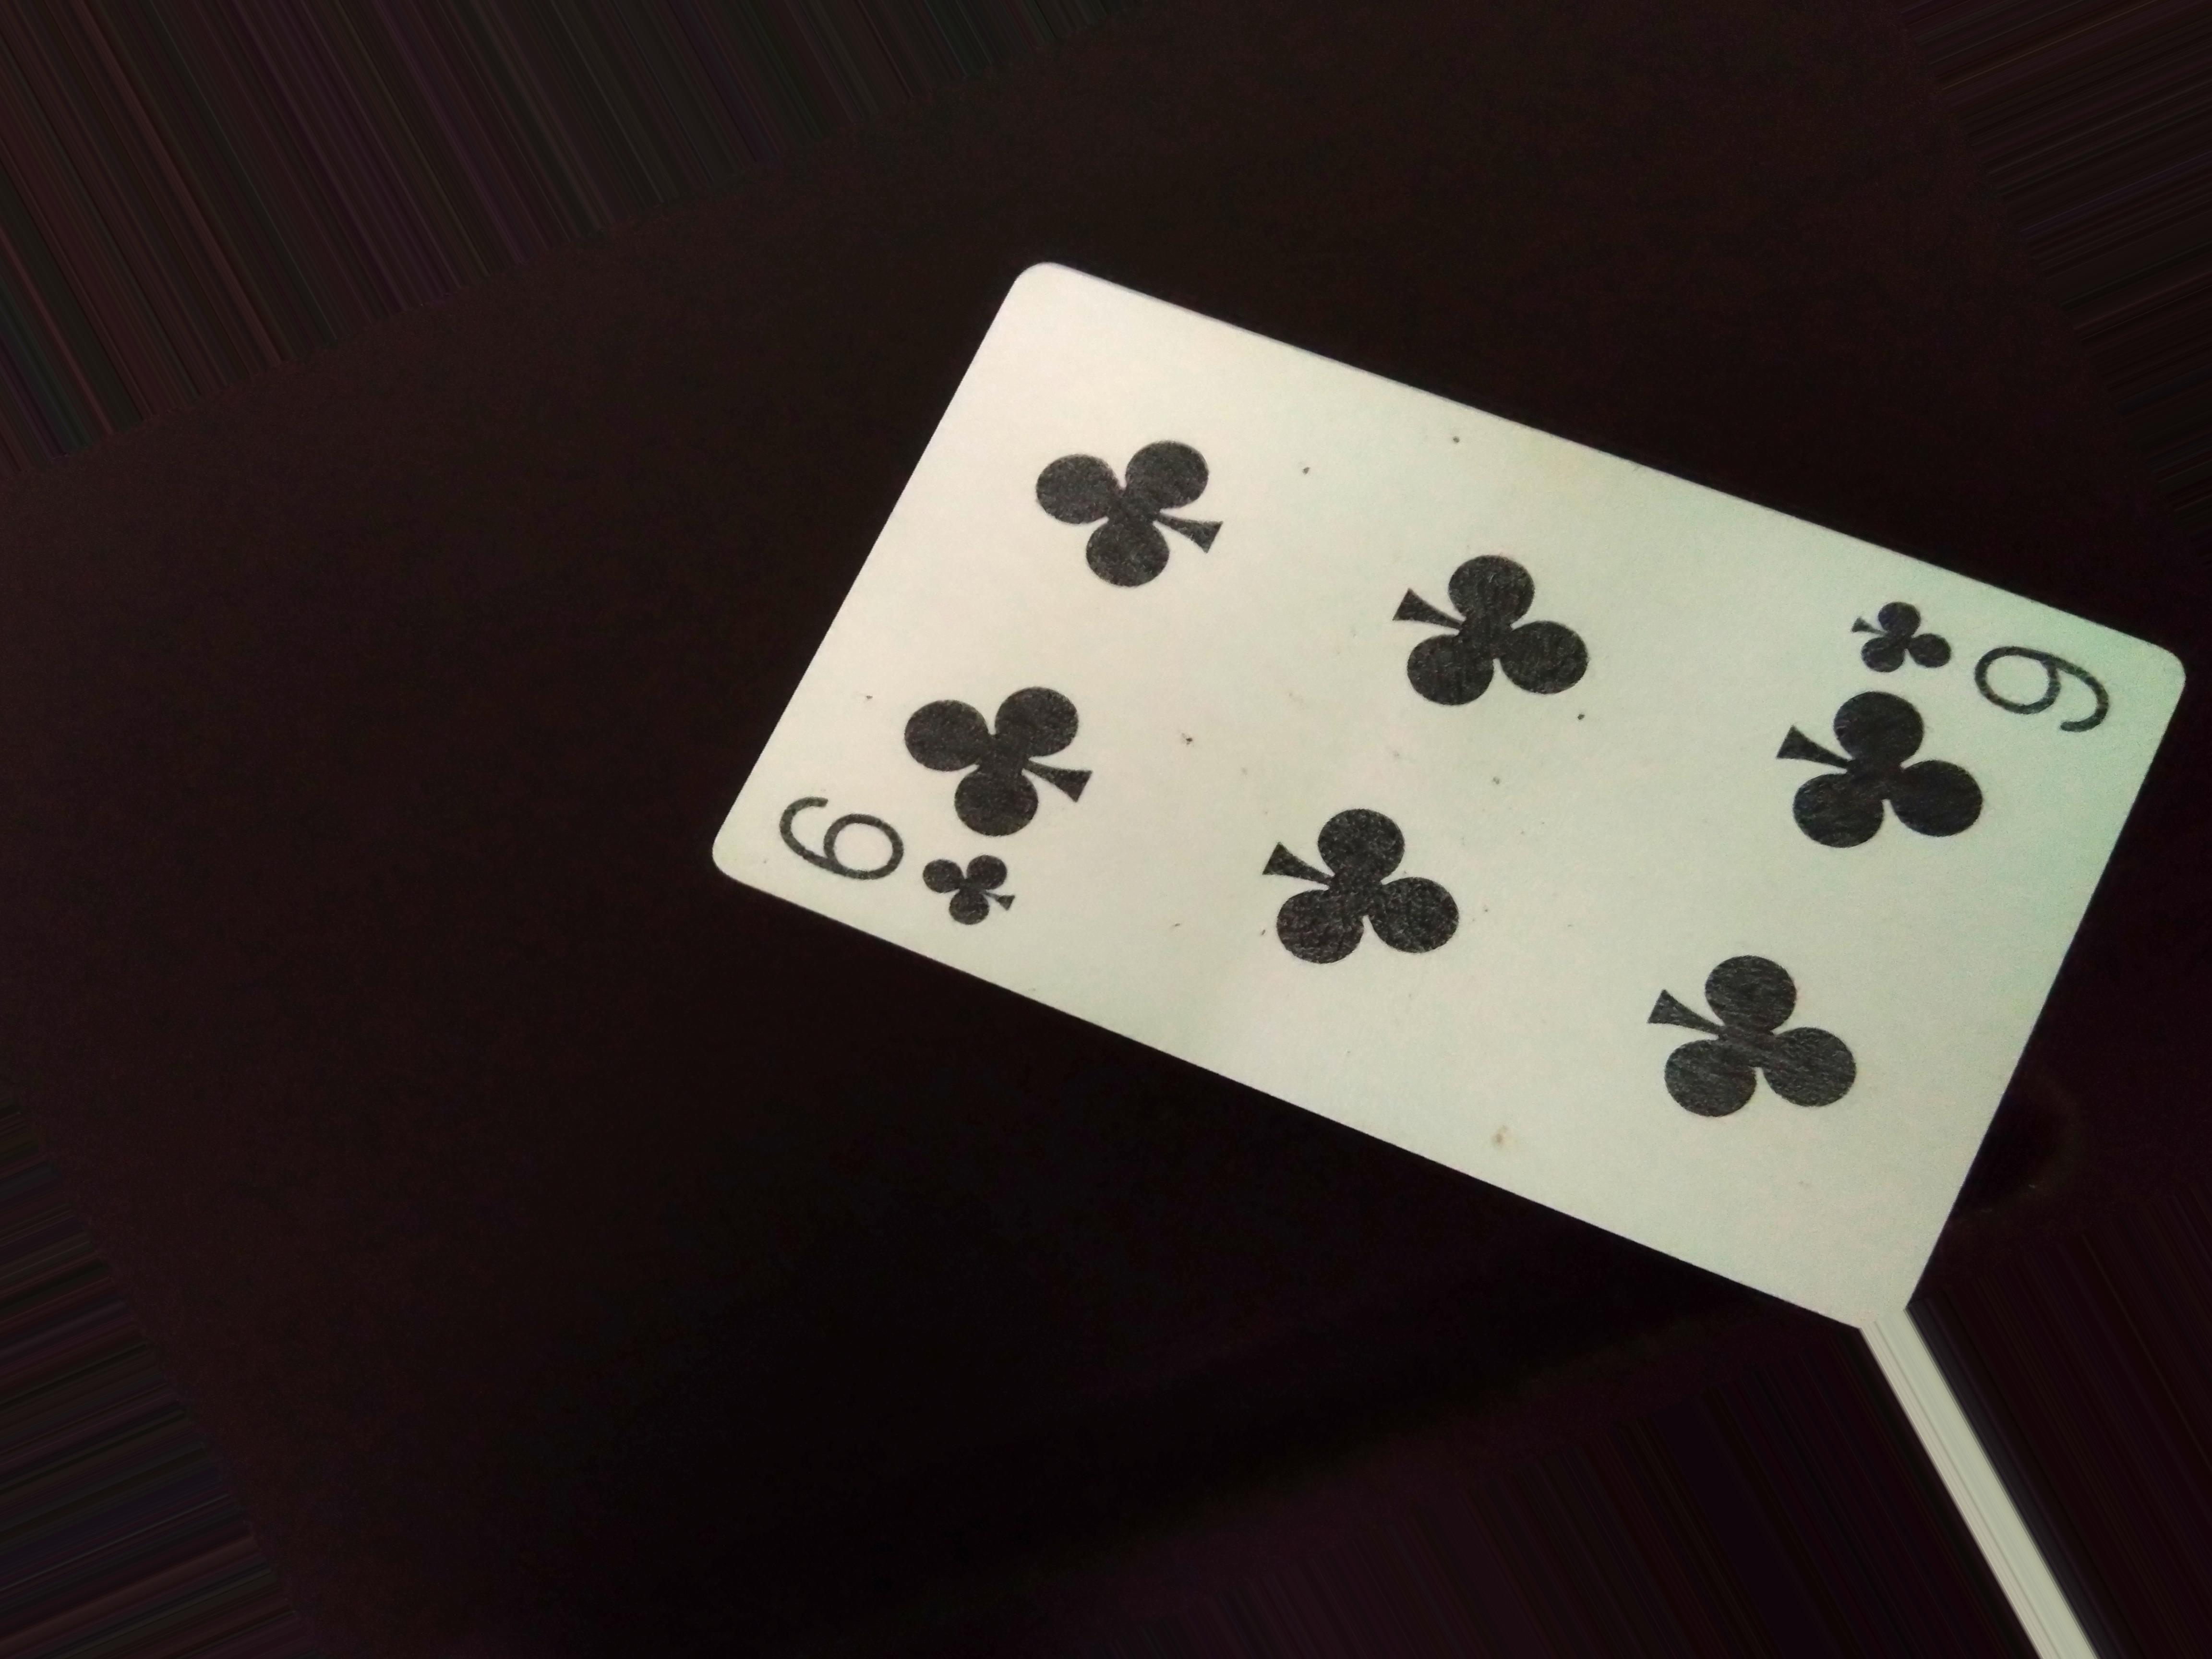6C: (780, 775, 1014, 934)
